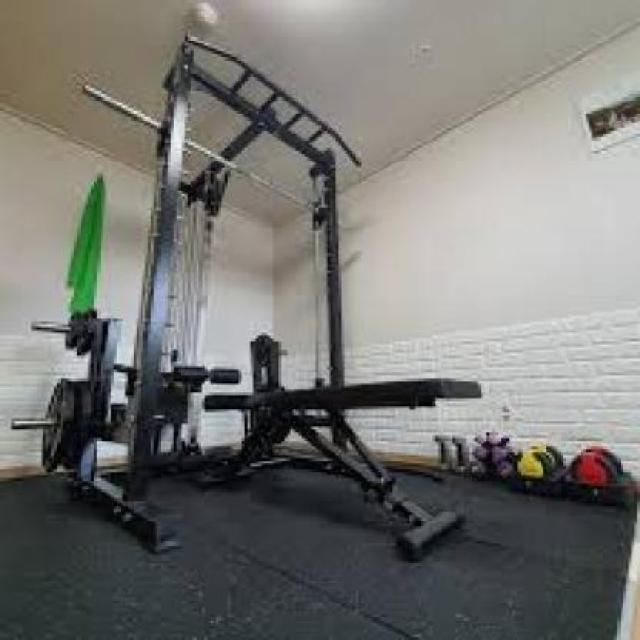smith machine: (84, 34, 482, 560)
